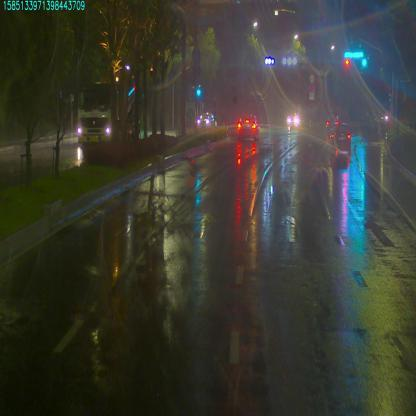traffic-light: (344, 48, 364, 57), (362, 60, 368, 70), (344, 58, 349, 64)
